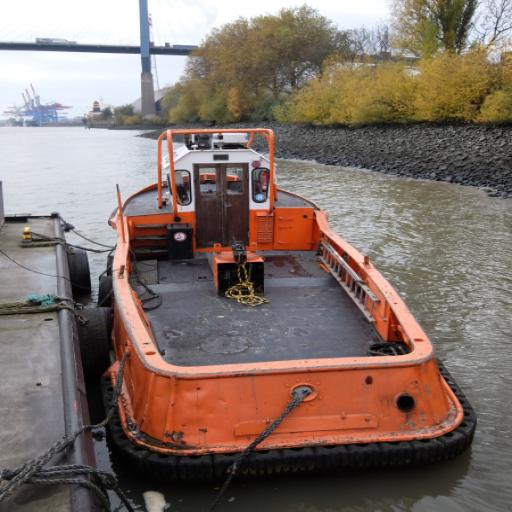tugboat: (94, 123, 485, 473)
